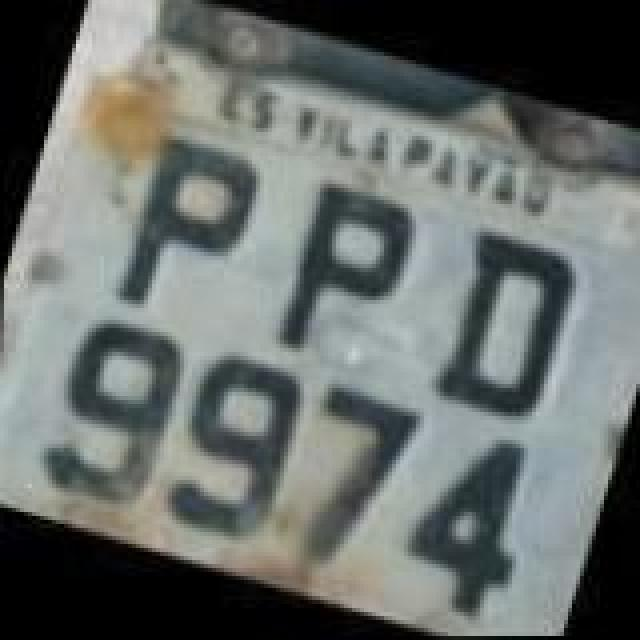4: (382, 408, 550, 624)
7: (266, 374, 426, 586)
9: (20, 304, 196, 512), (152, 340, 320, 548)
D: (422, 224, 586, 424)
P: (102, 128, 270, 340), (256, 174, 420, 382)
